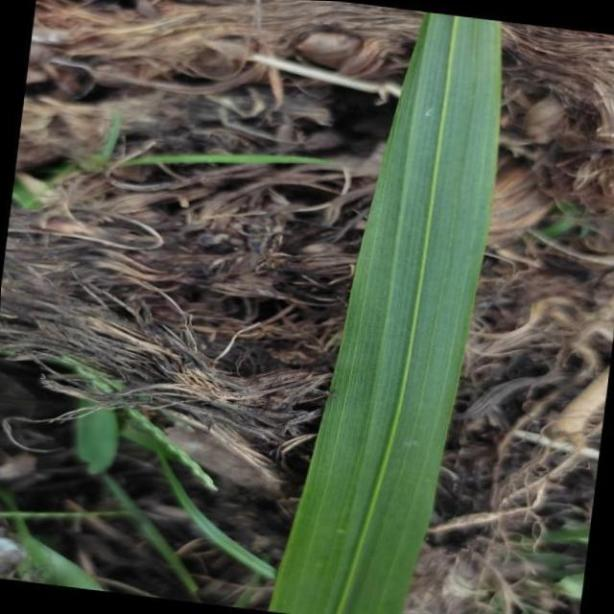Healthy: (270, 0, 505, 614)
